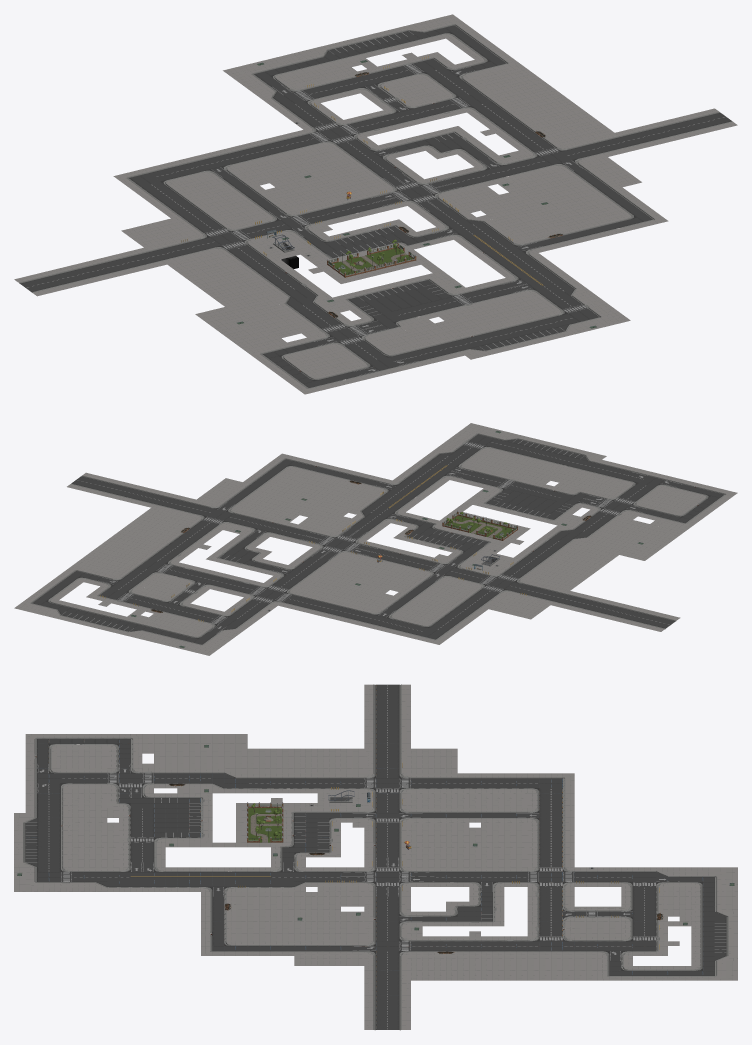
Rendered from ground.glb.
3 renders of one model, top to bottom at view 1: azimuth 30°, elevation 25°; view 2: azimuth 150°, elevation 25°; view 3: azimuth 270°, elevation 25°, orthographic. The views are drawn at different scales.
Bounding box in the file's own units: 350 × 11.38 × 310.
Materials: 2 (2 with a texture image).
